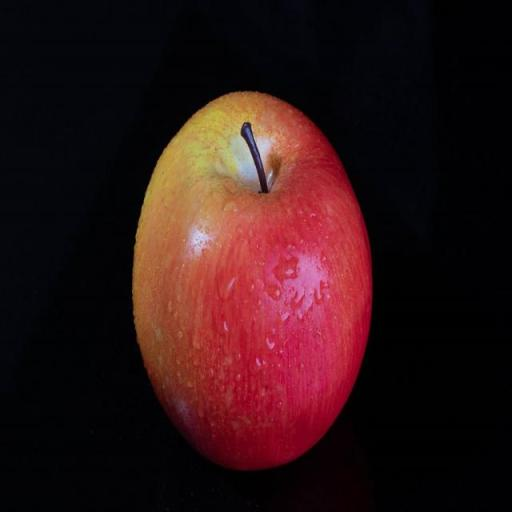fruit: (133, 92, 371, 469)
